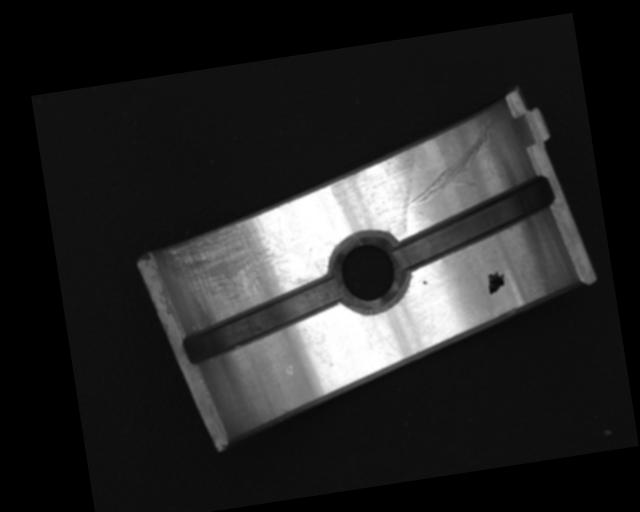blot: (485, 270, 508, 295)
bruise: (284, 362, 295, 376), (423, 280, 428, 285)
gap: (383, 176, 562, 274), (174, 275, 349, 366)
hole: (326, 226, 411, 317)
nick: (391, 114, 507, 211)
scratch: (156, 211, 317, 315)
